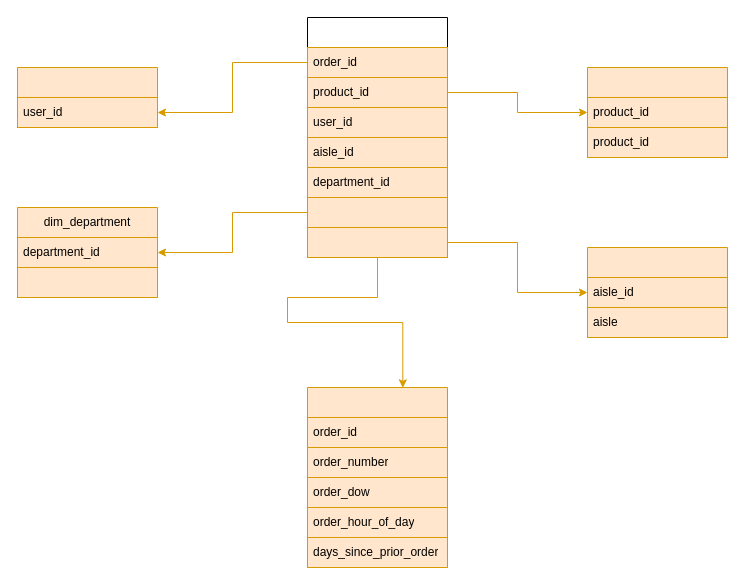
The diagram is 745 pixels wide and 585 high, and some of its shapes have lost their labels. Each missing label, with the box of its shape:
add_to_cart_order: (306, 196, 448, 228)
department: (16, 266, 158, 298)
dim_aisles: (586, 246, 728, 338)
dim_orders: (306, 386, 448, 568)
dim_products: (586, 66, 728, 158)
dim_user: (16, 66, 158, 128)
fact_order_products: (306, 16, 448, 258)
reordered: (306, 226, 448, 258)
